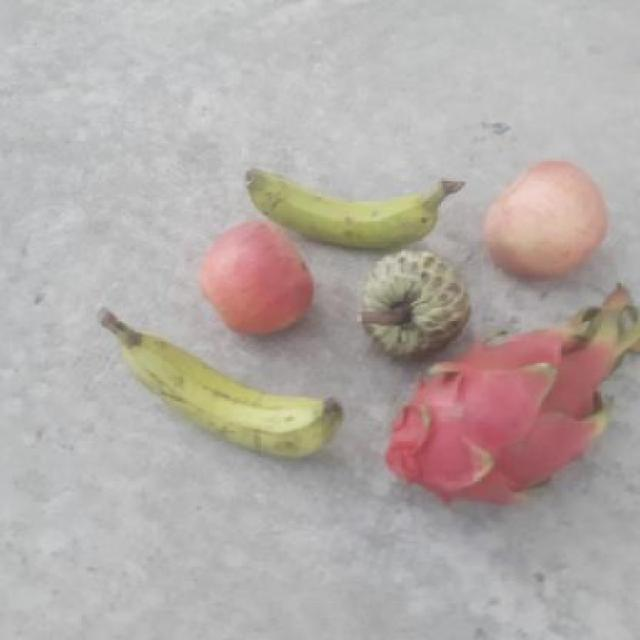apple: (480, 157, 612, 280), (196, 216, 315, 336)
banana: (115, 330, 348, 458), (244, 166, 459, 249)
dragon fruit: (384, 322, 636, 506)
sugar apple: (359, 249, 470, 363)
